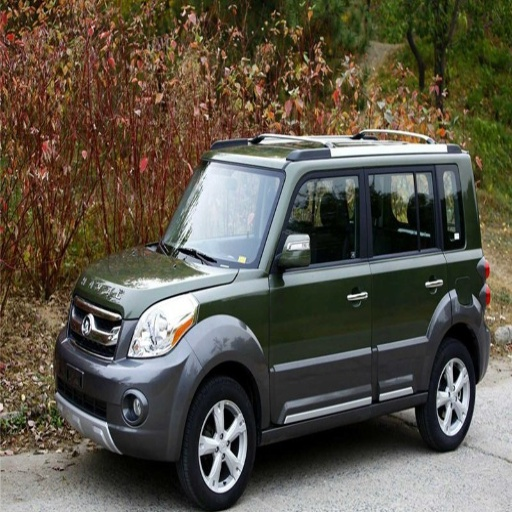front_bumper: (57, 296, 198, 458)
front_glass: (156, 163, 286, 266)
front_left_door: (273, 165, 374, 423)
